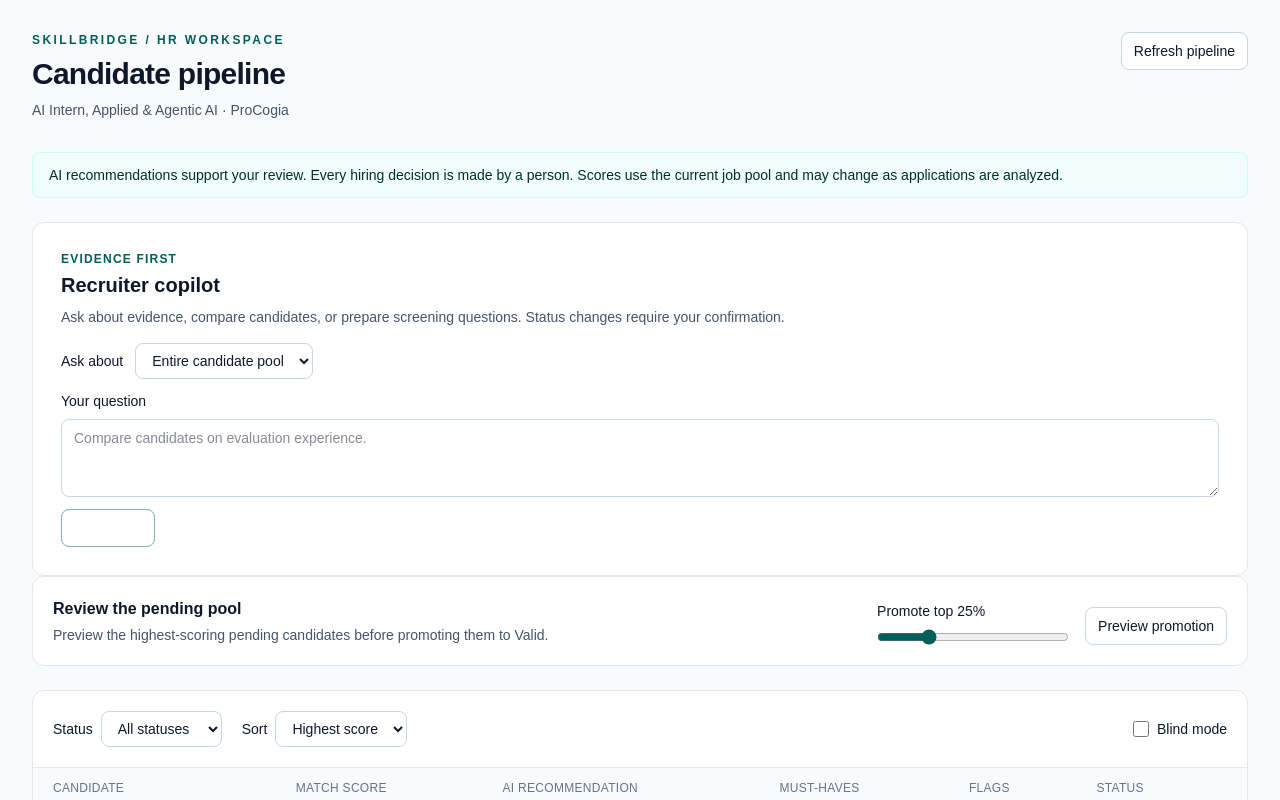
HR pipeline › clears a stale promotion preview and displays the server error
The image size is (1280, 800).
Click the button "Preview promotion". click: [1156, 626]
box: left=1085, top=607, right=1227, bottom=645
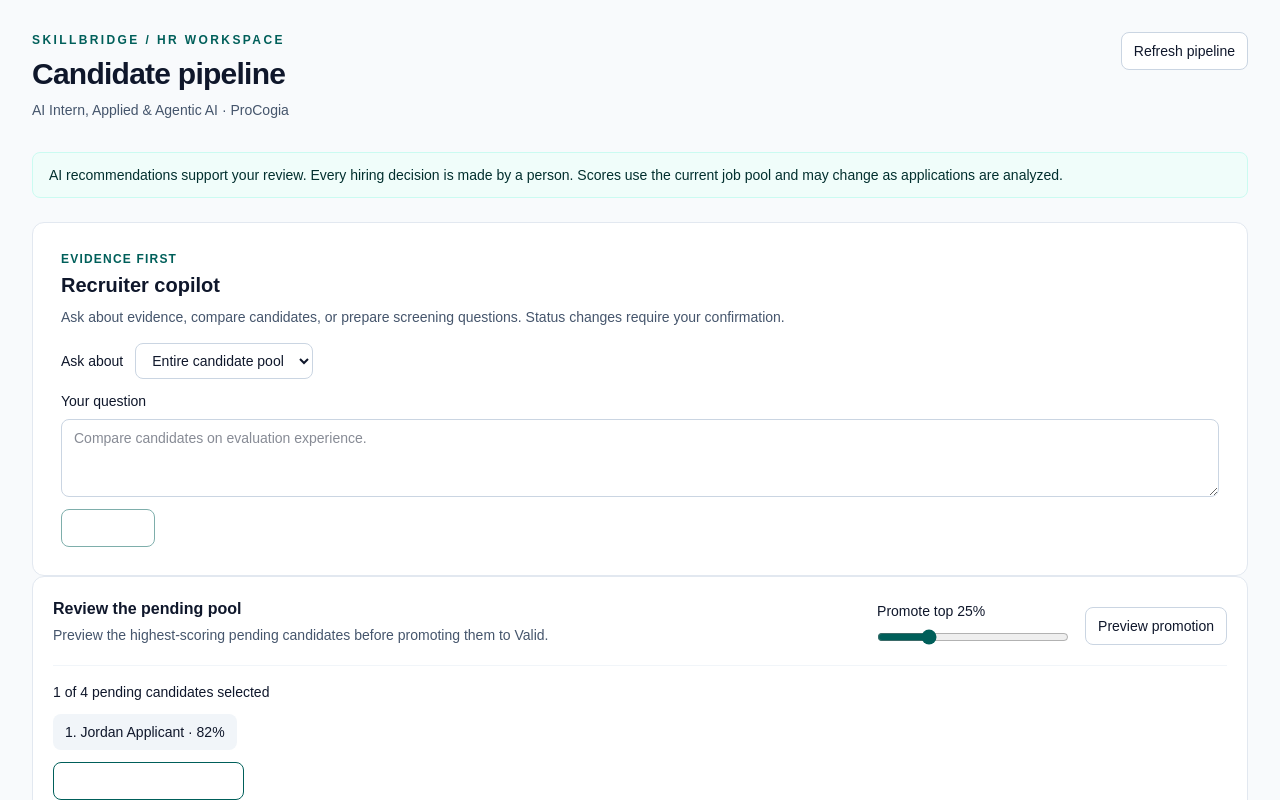
Click the button "Confirm promotion to Valid". click: [148, 781]
box: left=53, top=762, right=244, bottom=799
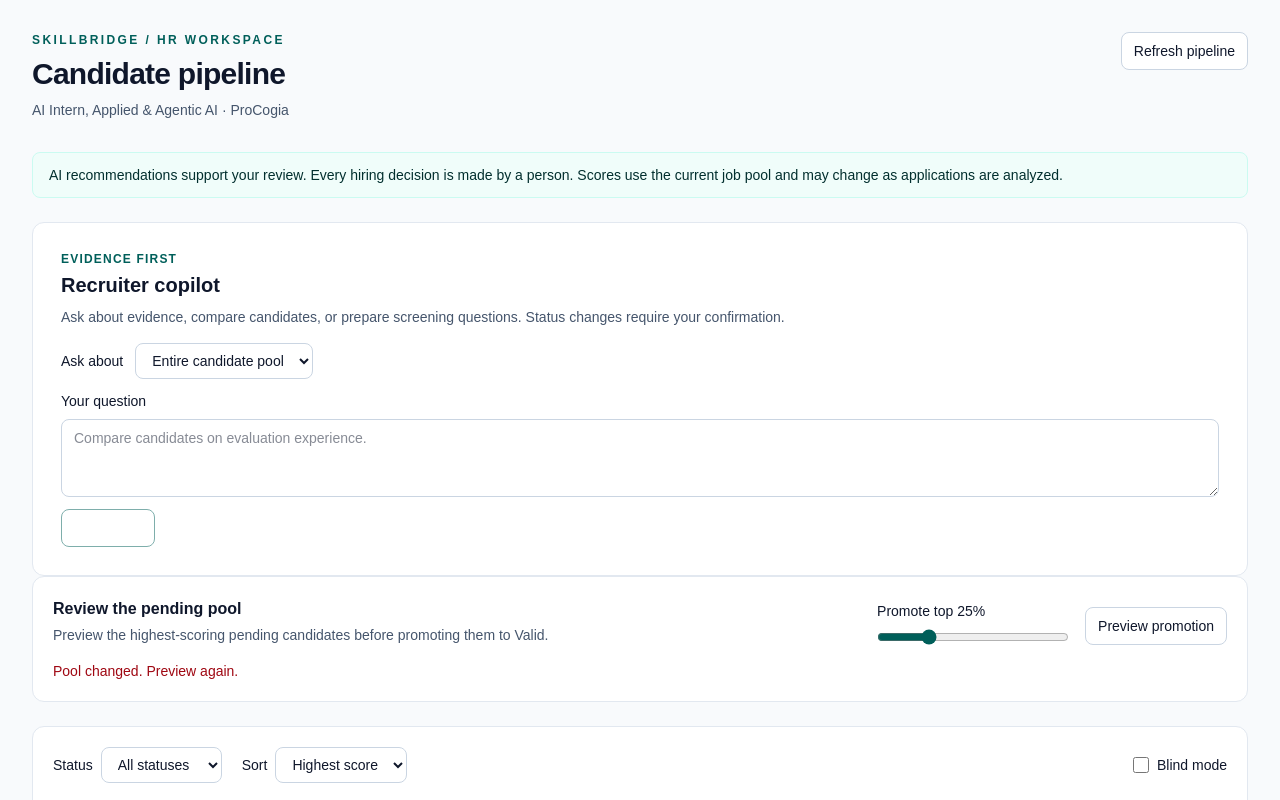
Now the message reads "Pool changed. Preview again.", box left=53, top=663, right=238, bottom=679
Now the button "Confirm promotion to Valid" is gone
